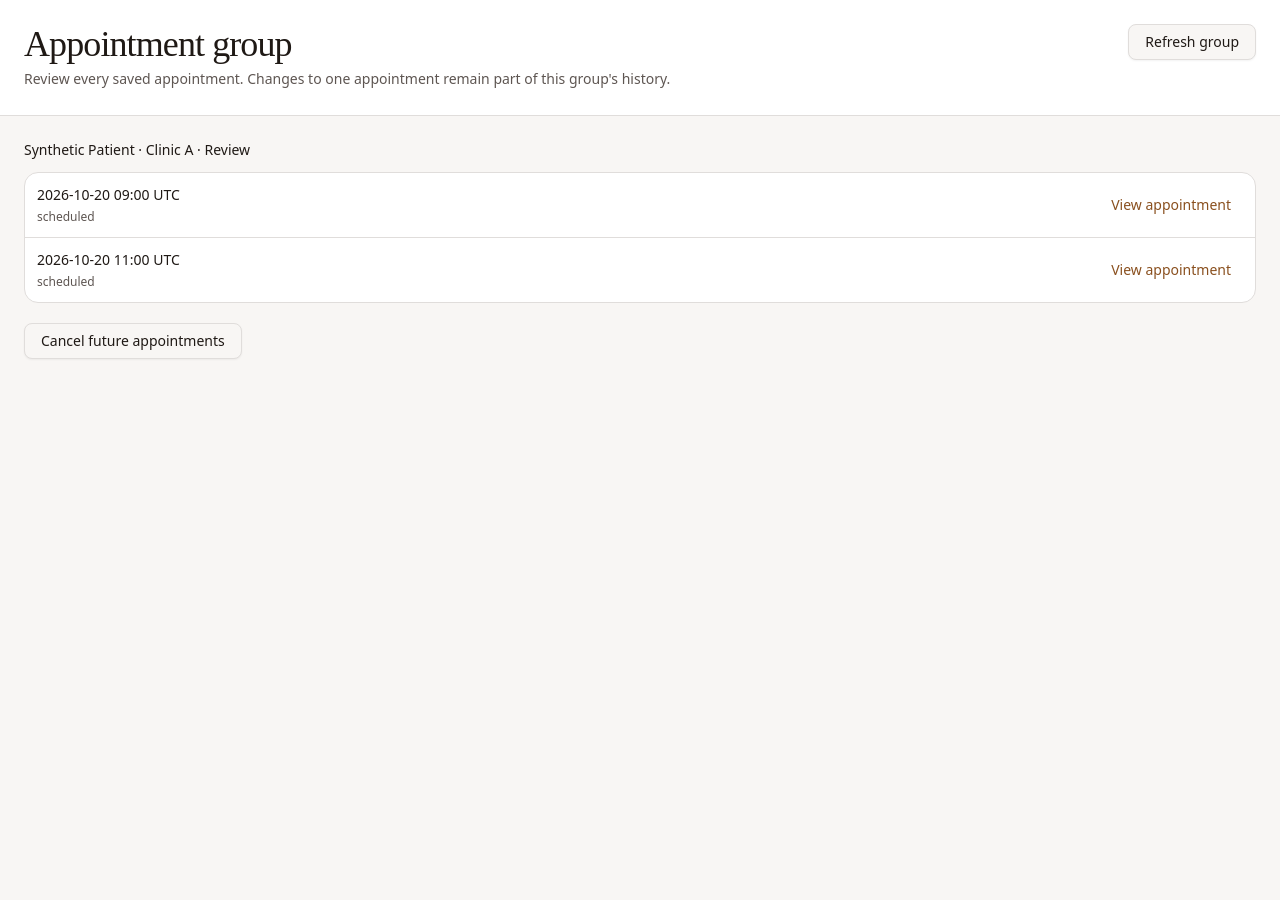
Test: appointment series through reachable pages and the real generated client › preserves confirmed cancellation receipt when the subsequent group read fails
The image size is (1280, 900).
Click the button "Cancel future appointments".
click(133, 341)  # box [24,323,242,359]
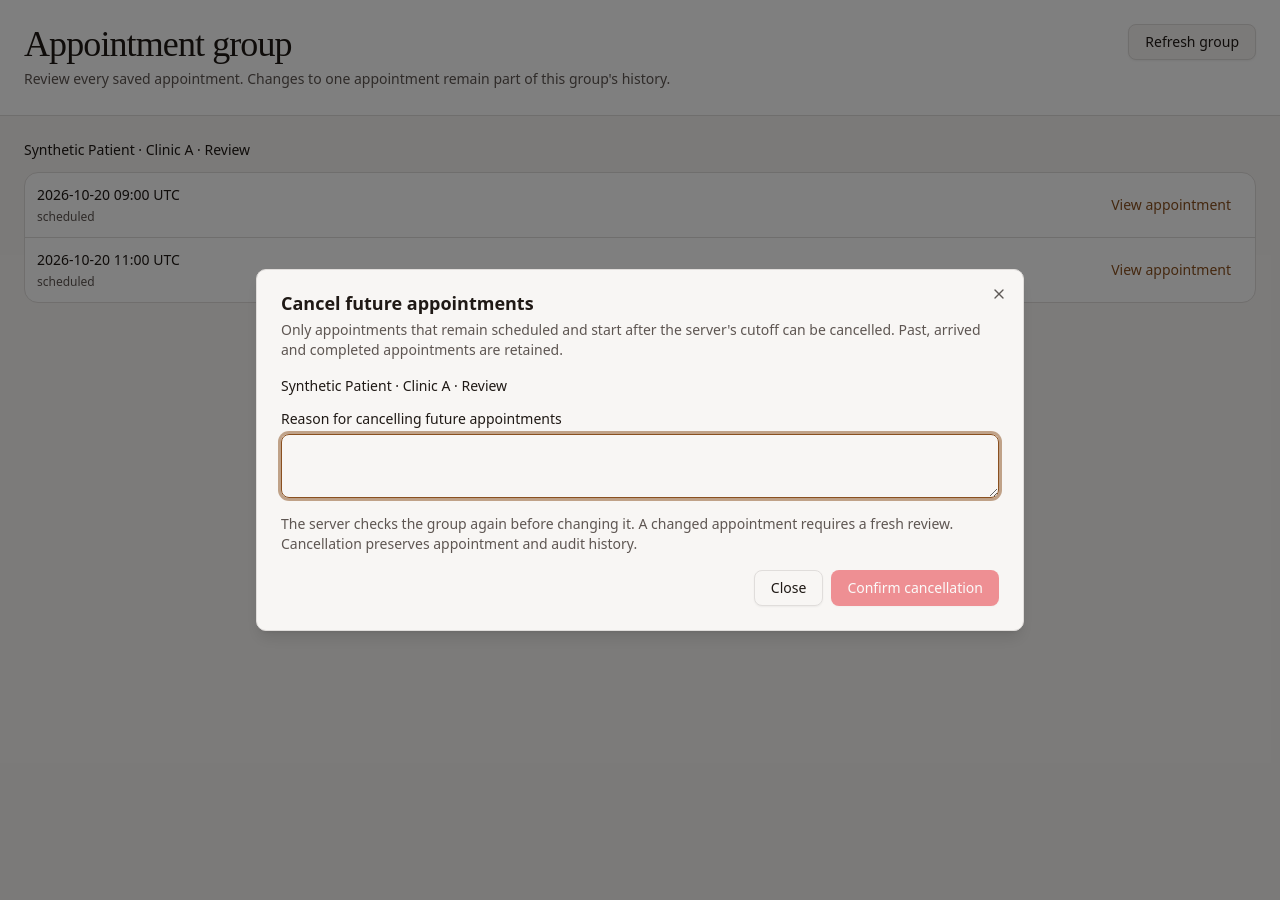
Type "Plans changed" into the text box labelled "Reason for cancelling future appointments".
click(640, 466); type("Plans changed")  # box [281,434,999,498]
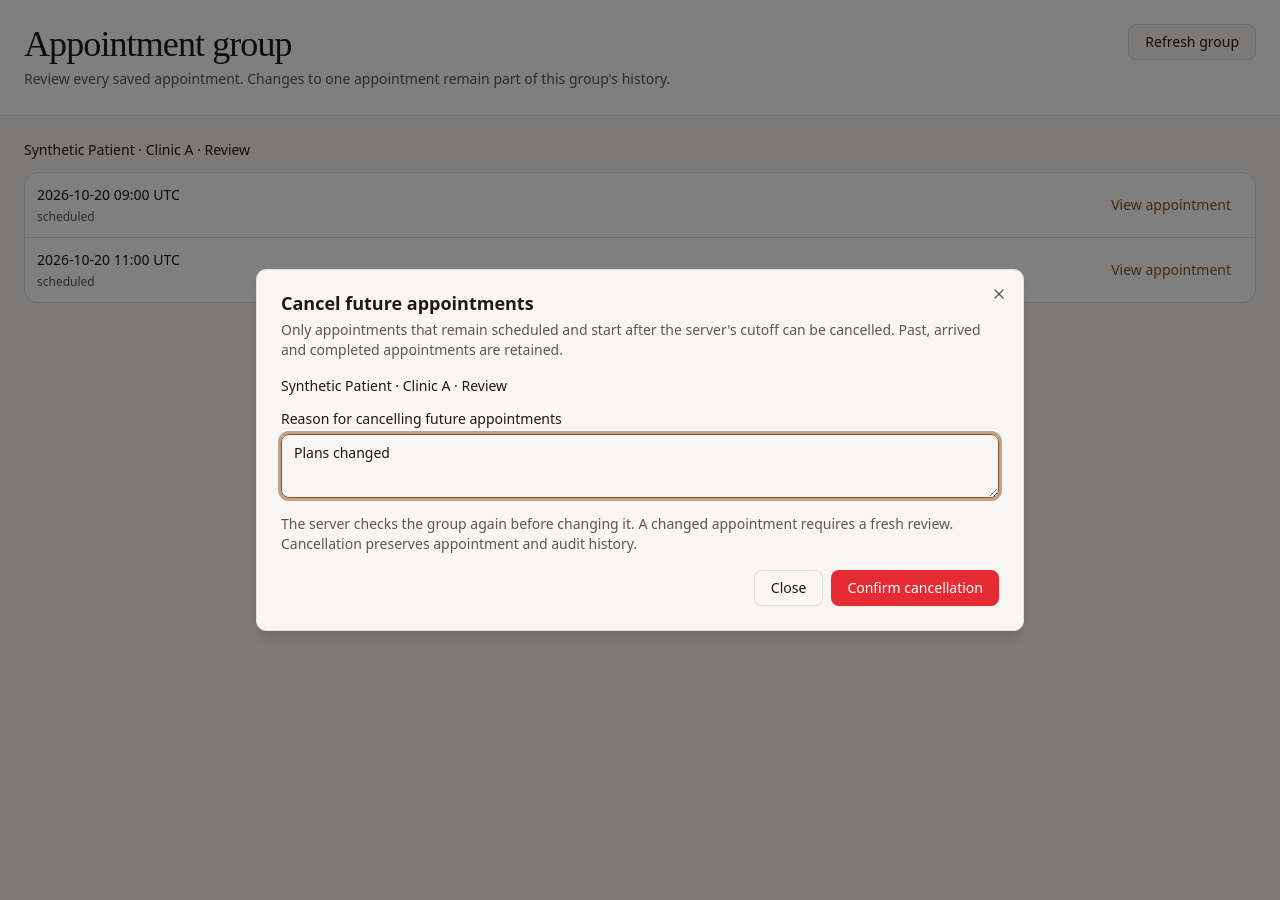
Click the button "Confirm cancellation".
click(915, 588)  # box [831,570,999,606]
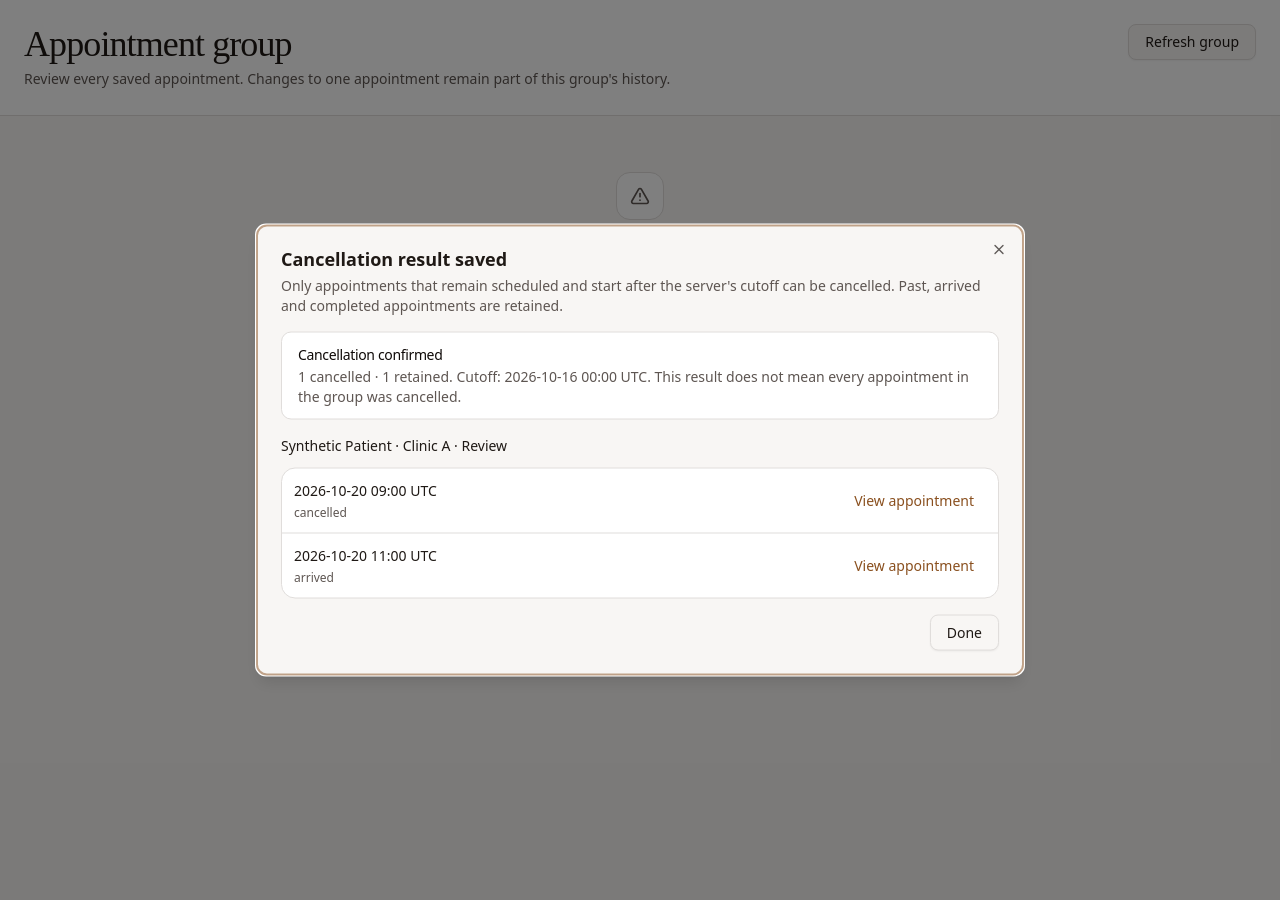
Expected: the text "Cancellation confirmed" is shown, [298,344,442,364]
Expected: the heading "Appointment group unavailable" is shown, [496,238,784,262]
Expected: the dialog shows "1 cancelled · 1 retained", [256,224,1024,676]
